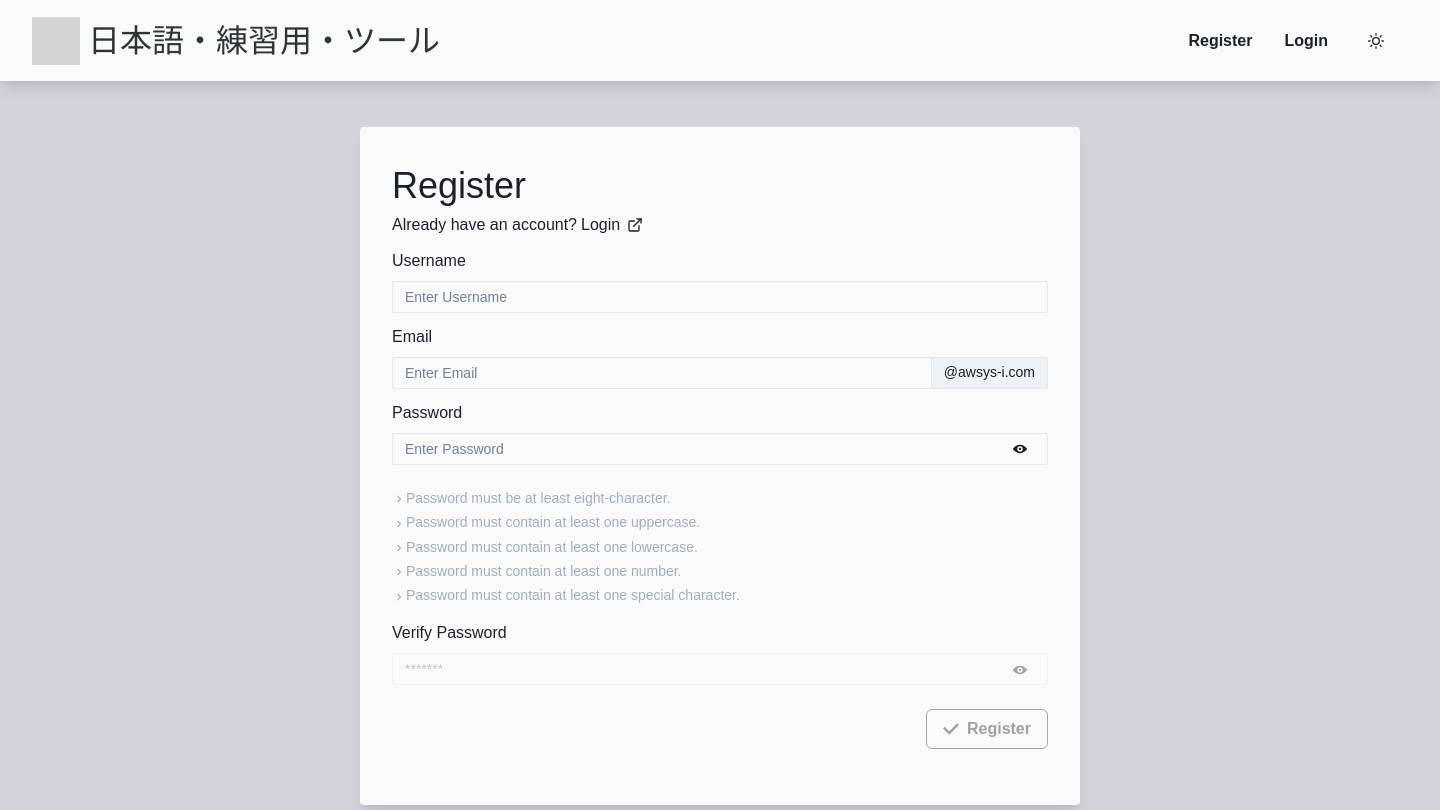
Scenario: -------------- Register Vitest Testing -------------- › -------------- Unit Testing -------------- › VITEST_UT_REGISTER-300 Verify if Verify Password is enabled if input is valid format › VITEST_UT_REGISTER-301 Should Input valid format and check if verify password is enabled
The width and height of the screenshot is (1440, 810).
Type "Test@123" into the password field with placeholder "Enter Password" at (720, 448), box [392, 432, 1048, 464]
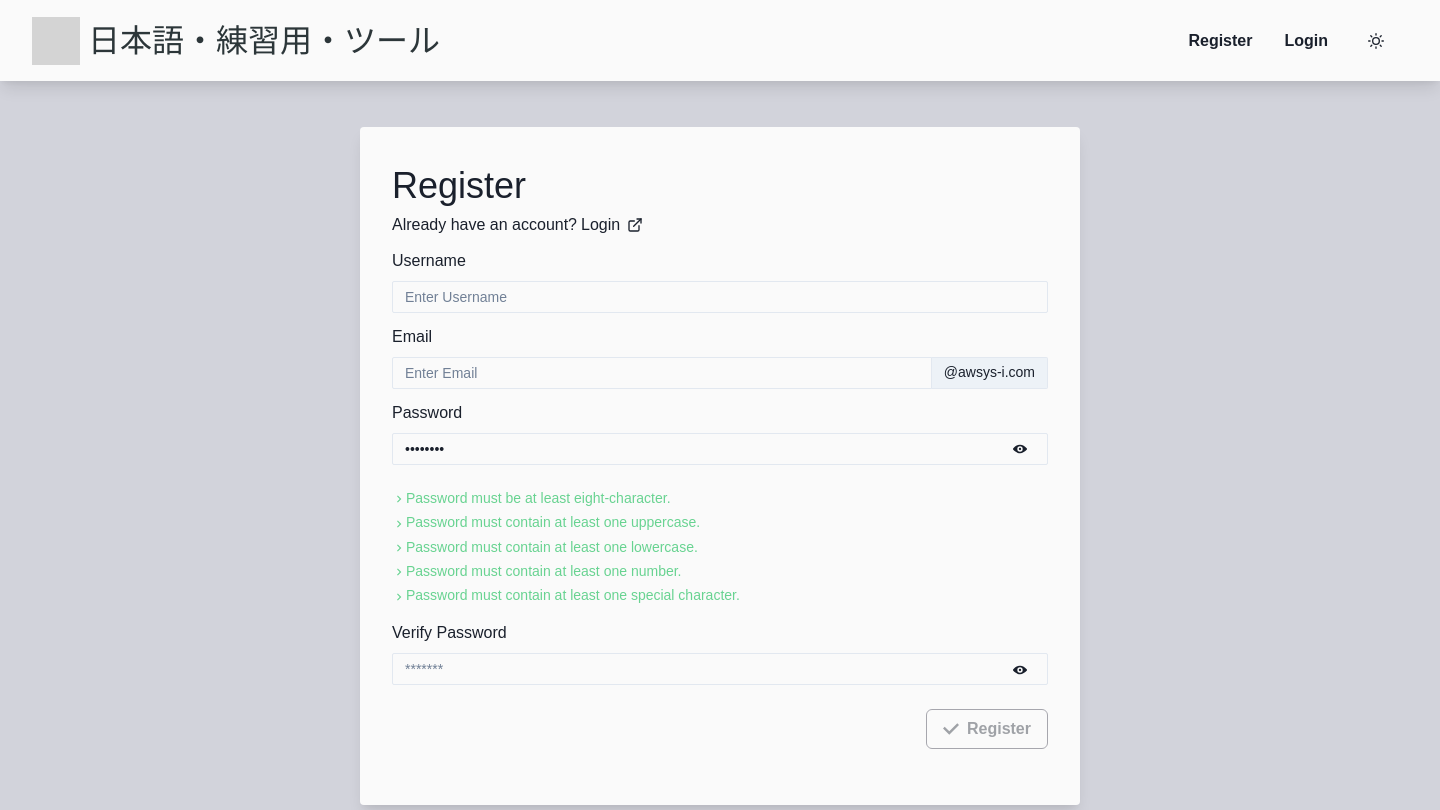
Expected: the password field with placeholder "*******" is enabled, [392, 653, 1048, 685]
